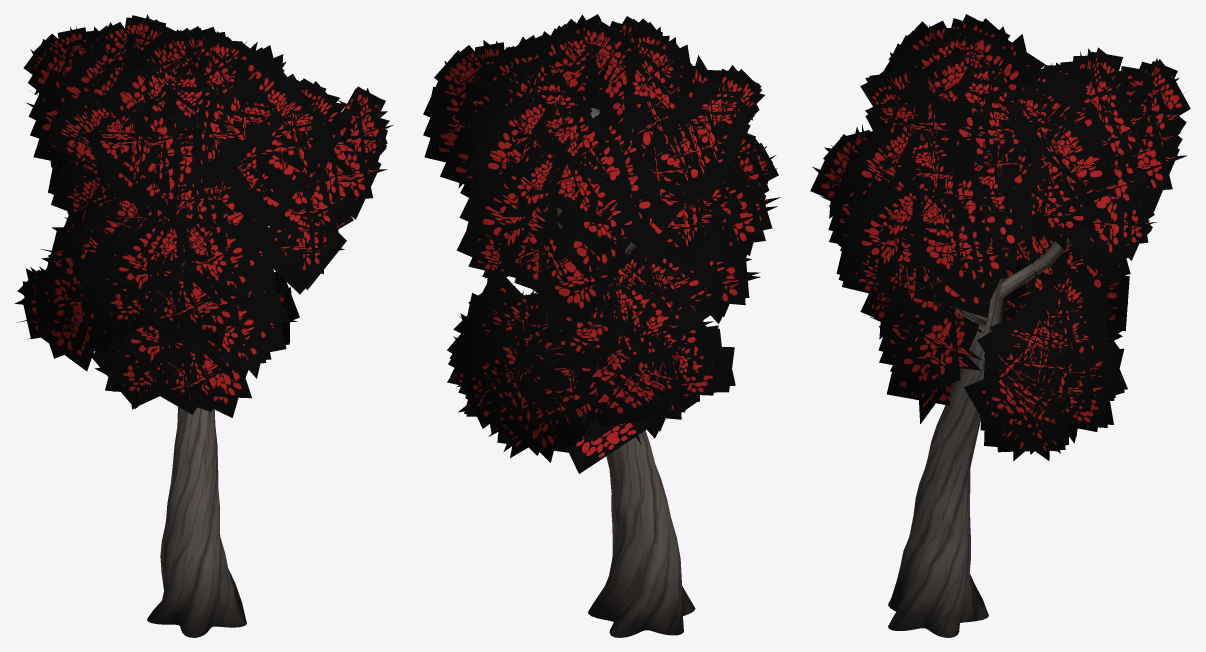
Rendered from twistedtree_5.gltf.
3 renders of one model, left to right at view 1: azimuth 30°, elevation 25°; view 2: azimuth 150°, elevation 25°; view 3: azimuth 270°, elevation 25°, orthographic. The views are drawn at different scales.
Parts seen in each view (by area): view 1: TwistedTree_5; view 2: TwistedTree_5; view 3: TwistedTree_5.
Boxes of the visible parts, box(x1,y1,x2,y2) form: TwistedTree_5: box(14, 14, 393, 637); TwistedTree_5: box(423, 14, 781, 637); TwistedTree_5: box(810, 14, 1190, 637).
Size of the model in its own units: 9.49 by 15.66 by 9.39.
Materials: 2 (2 with a texture image).
